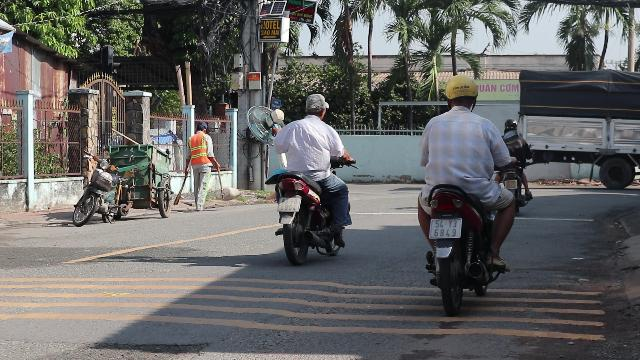helmet: (442, 74, 480, 110)
licenseplate: (430, 218, 460, 238), (278, 197, 300, 210)
motorcyclist: (411, 71, 523, 306), (267, 92, 355, 264)
nohelmet: (304, 94, 328, 121)
